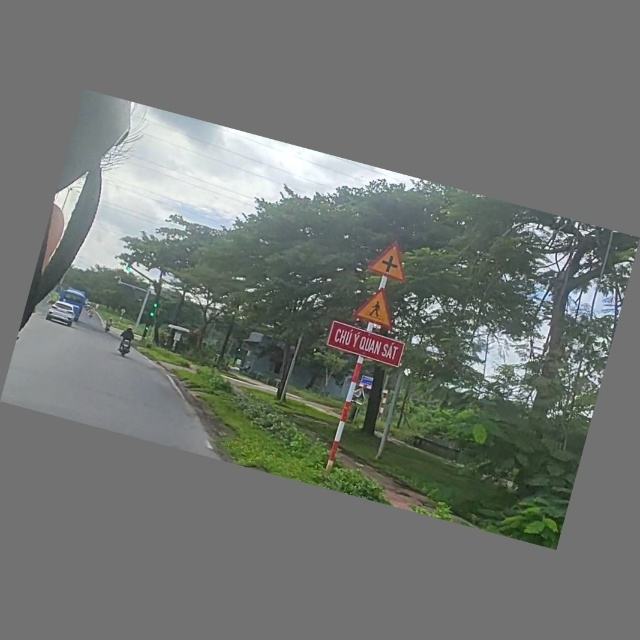W.205a: (365, 237, 415, 285)
W.224: (353, 281, 406, 330)
